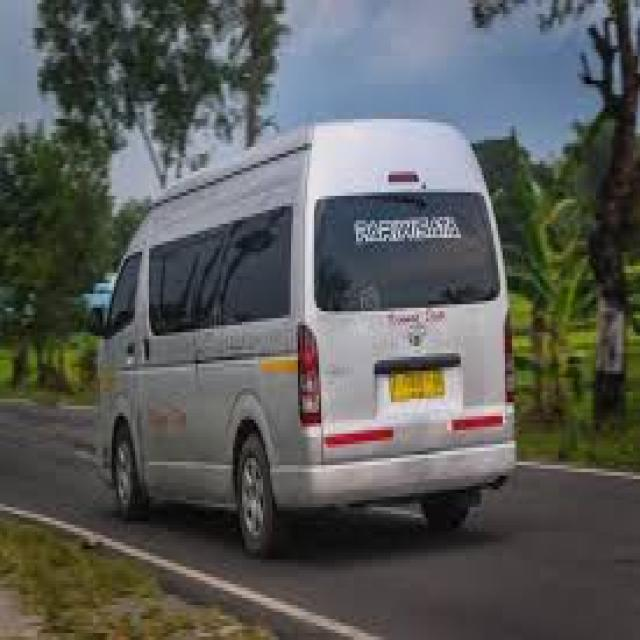van: (95, 122, 514, 556)
